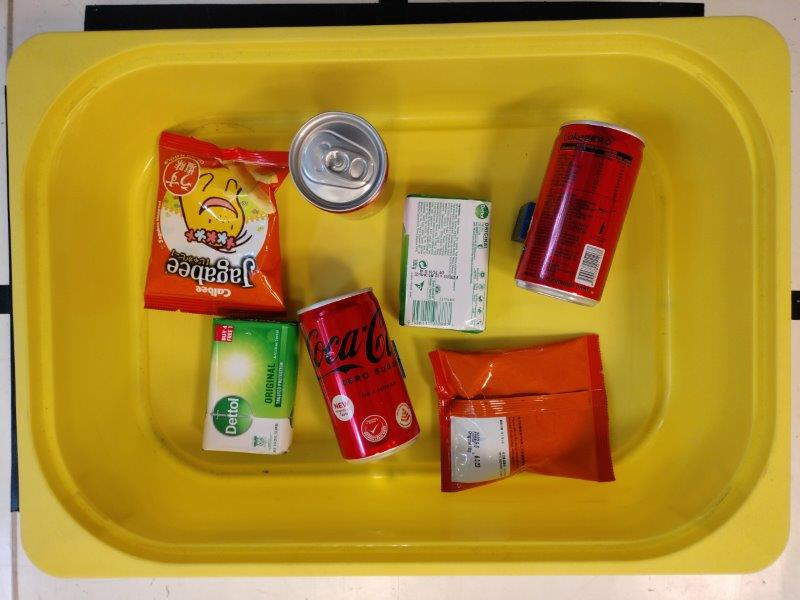Coke: (515, 122, 645, 306), (297, 287, 420, 464), (290, 111, 389, 214)
Dettol: (203, 317, 298, 455), (401, 194, 489, 333)
Jagabee: (431, 334, 617, 492), (144, 130, 290, 315)
